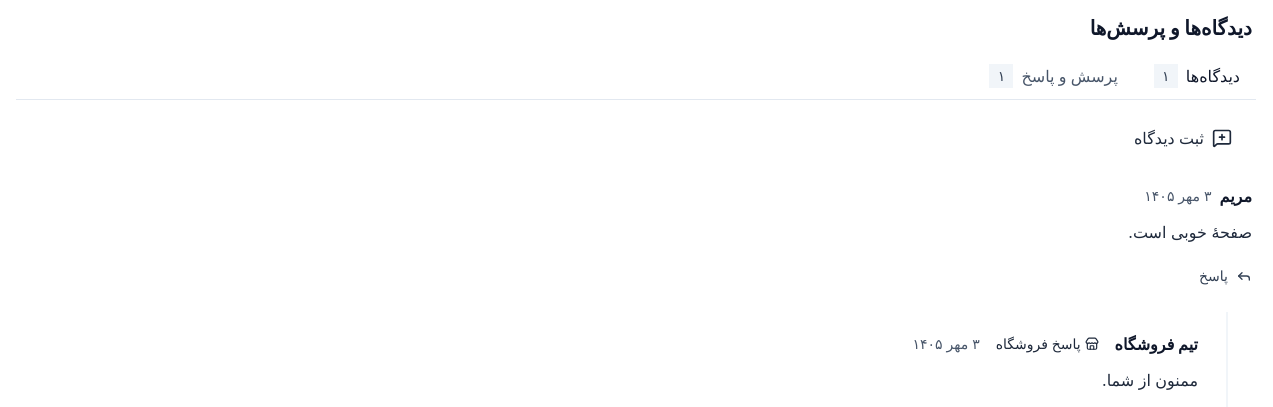
it: PageComments › the questions are read through the BFF on the page’s own path once their tab opens
Click the tab "پرسش و پاسخ ۱".
click(1054, 76)  # box [973,52,1134,100]
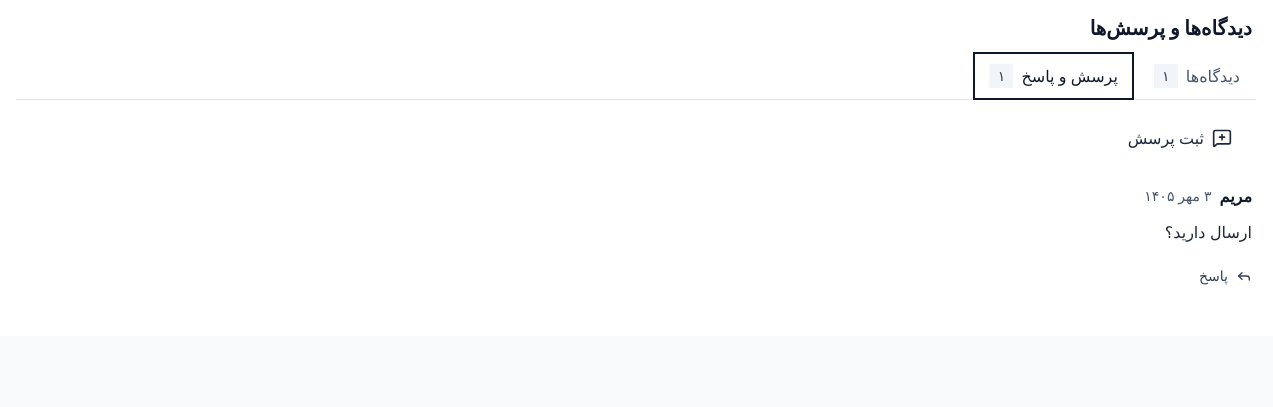
expect the text "ارسال دارید؟" is shown: met, box [1165,222,1252,242]
